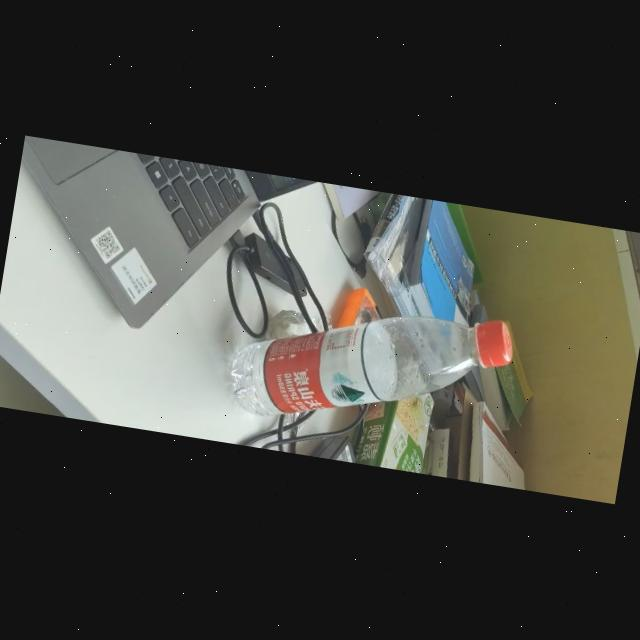trash: (222, 278, 517, 451)
